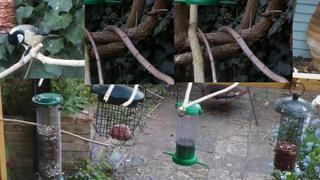great tit: (7, 24, 61, 65)
